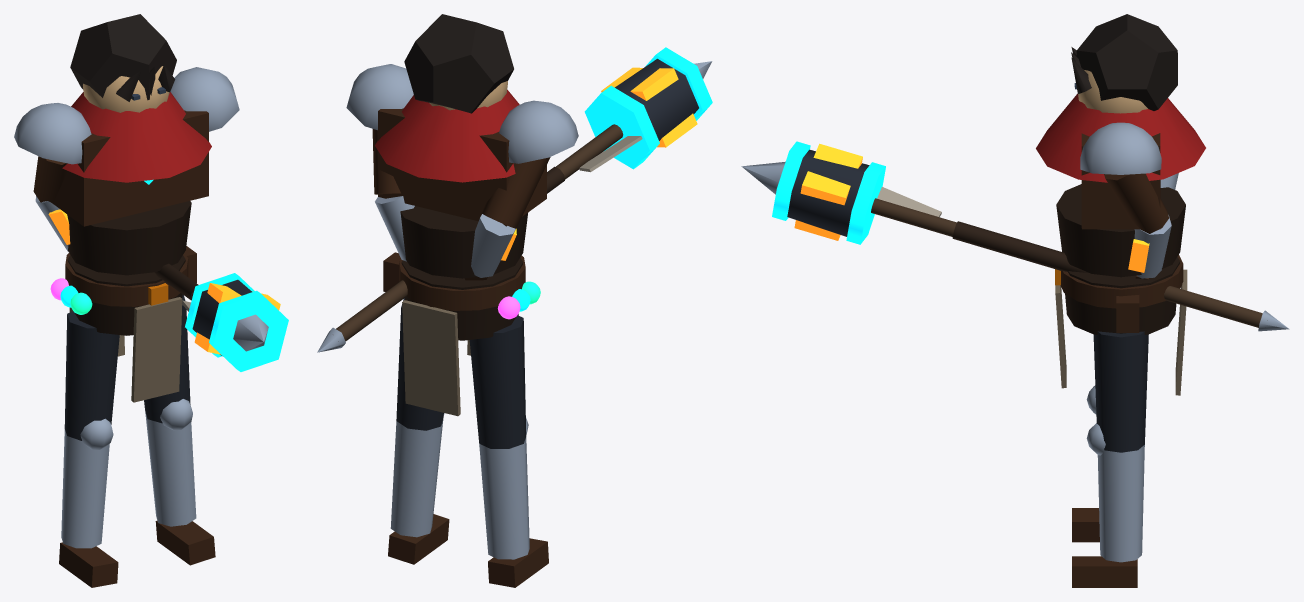
File: dargaze_hero_kaelen_rigged.glb
The picture shows the model from 3 angles, left to right: view 1: azimuth 30°, elevation 25°; view 2: azimuth 150°, elevation 25°; view 3: azimuth 270°, elevation 25°; orthographic projection. The views are drawn at different scales.
Parts seen in each view (by area): view 1: Hero_kaelen, object 5, object 2, object 10, object 33, object 35, object 39, object 27, object 14, object 19, object 36, object 40 (+12 smaller); view 2: Hero_kaelen, object 5, object 10, object 33, object 2, object 35, object 39, object 14, object 28, object 19, object 26, object 24 (+10 smaller); view 3: Hero_kaelen, object 10, object 5, object 37, object 39, object 19, object 26, object 24, object 2, object 25, object 20, object 29 (+7 smaller).
Part boxes in pixels (x1,y1,x2,y2): Hero_kaelen: (50,201,196,402); object 5: (62,92,211,182); object 2: (52,110,208,226); object 10: (70,14,176,100); object 33: (64,311,119,440); object 35: (61,429,109,548); object 39: (145,412,196,526); object 27: (209,290,288,371); object 14: (14,103,91,164); object 19: (170,67,239,131); object 36: (59,542,118,587); object 40: (155,520,215,565); Hero_kaelen: (383,206,540,416); object 5: (375,90,519,182); object 10: (404,14,513,113); object 33: (469,315,526,448); object 2: (378,108,546,226); object 35: (479,437,529,559); object 39: (390,419,443,537); object 14: (499,100,578,163); object 28: (584,85,659,169); object 19: (346,64,413,130); object 26: (615,58,698,140); object 24: (336,124,623,341); Hero_kaelen: (1055,184,1187,395); object 10: (1076,14,1177,110); object 5: (1036,93,1205,182); object 37: (1093,331,1148,452); object 39: (1097,445,1144,562); object 19: (1080,122,1161,174); object 26: (787,149,869,236); object 24: (871,198,1267,327); object 2: (1081,133,1160,229); object 25: (952,221,1088,272); object 20: (1104,173,1168,233); object 29: (794,143,862,240).
Bounding box in the file's own units: 0.7627 × 1.81 × 1.67.
